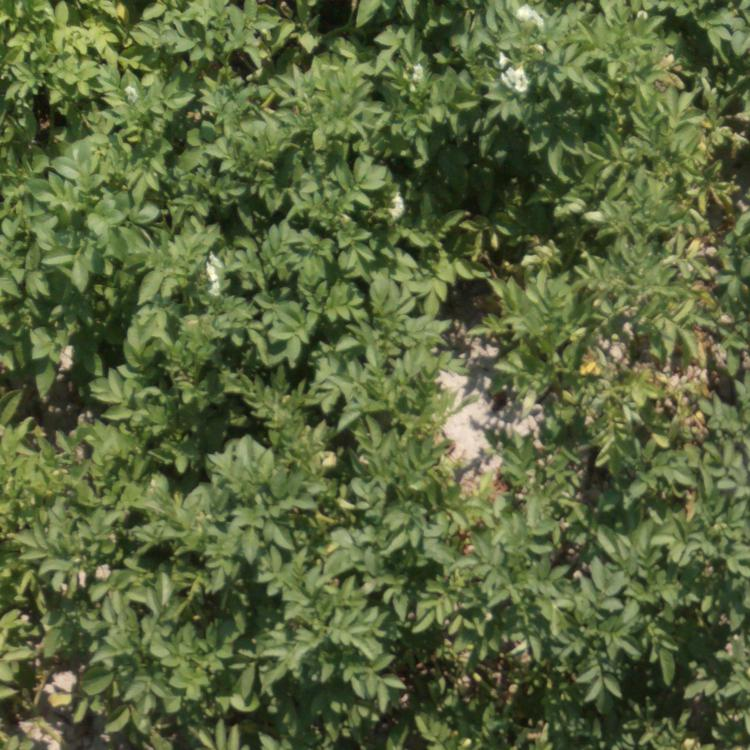healthy: (6, 386, 750, 745), (1, 1, 423, 372), (432, 4, 750, 367)
